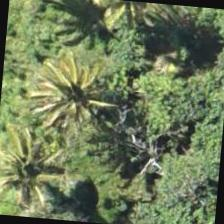Kelapa_Sawit: (28, 46, 126, 144), (0, 121, 80, 219)
